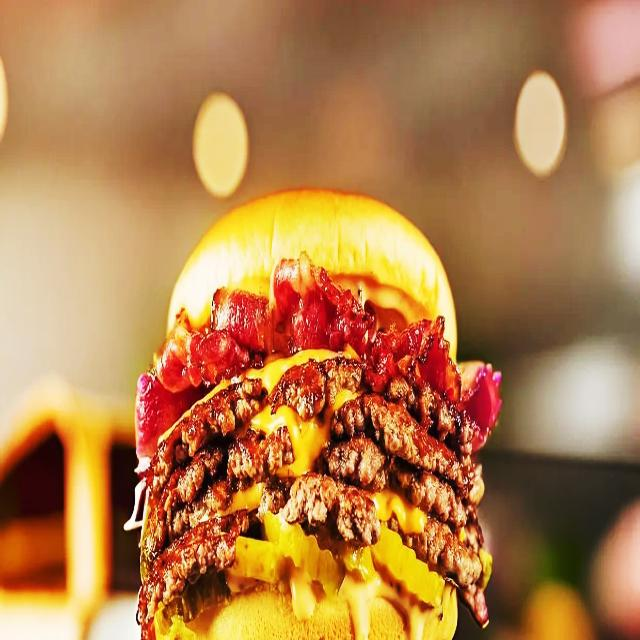burger: (131, 186, 501, 632)
